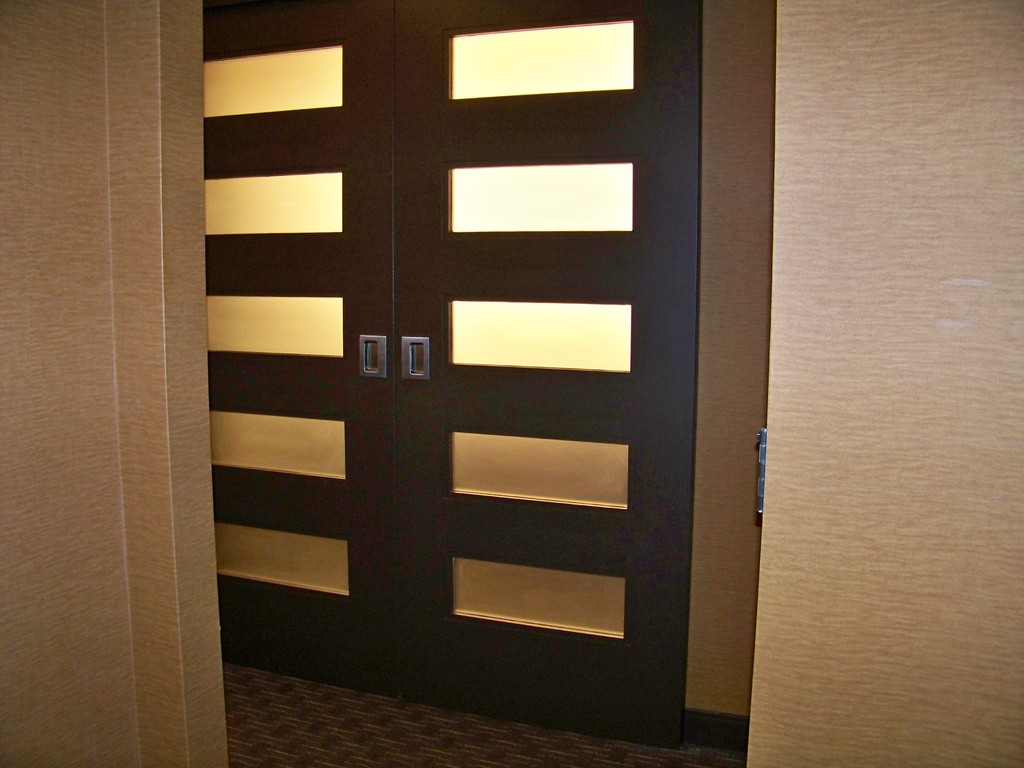door: (404, 25, 660, 699), (210, 42, 396, 681)
handle: (404, 331, 434, 380), (360, 335, 386, 375)
